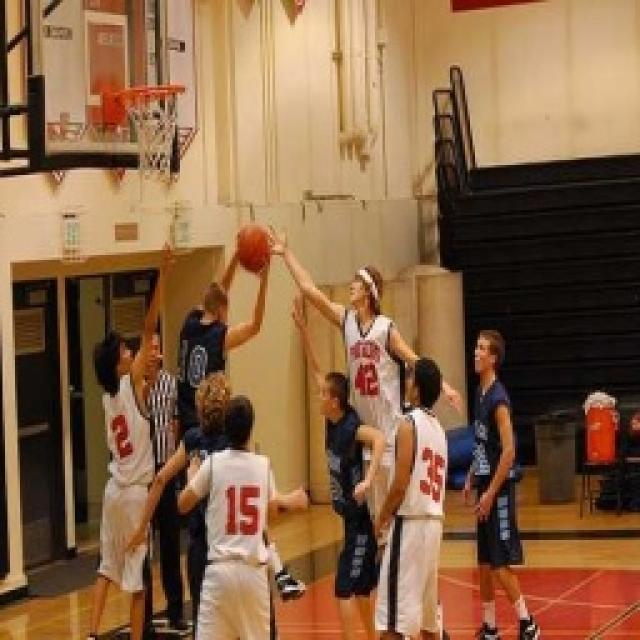rim: (233, 223, 274, 273)
